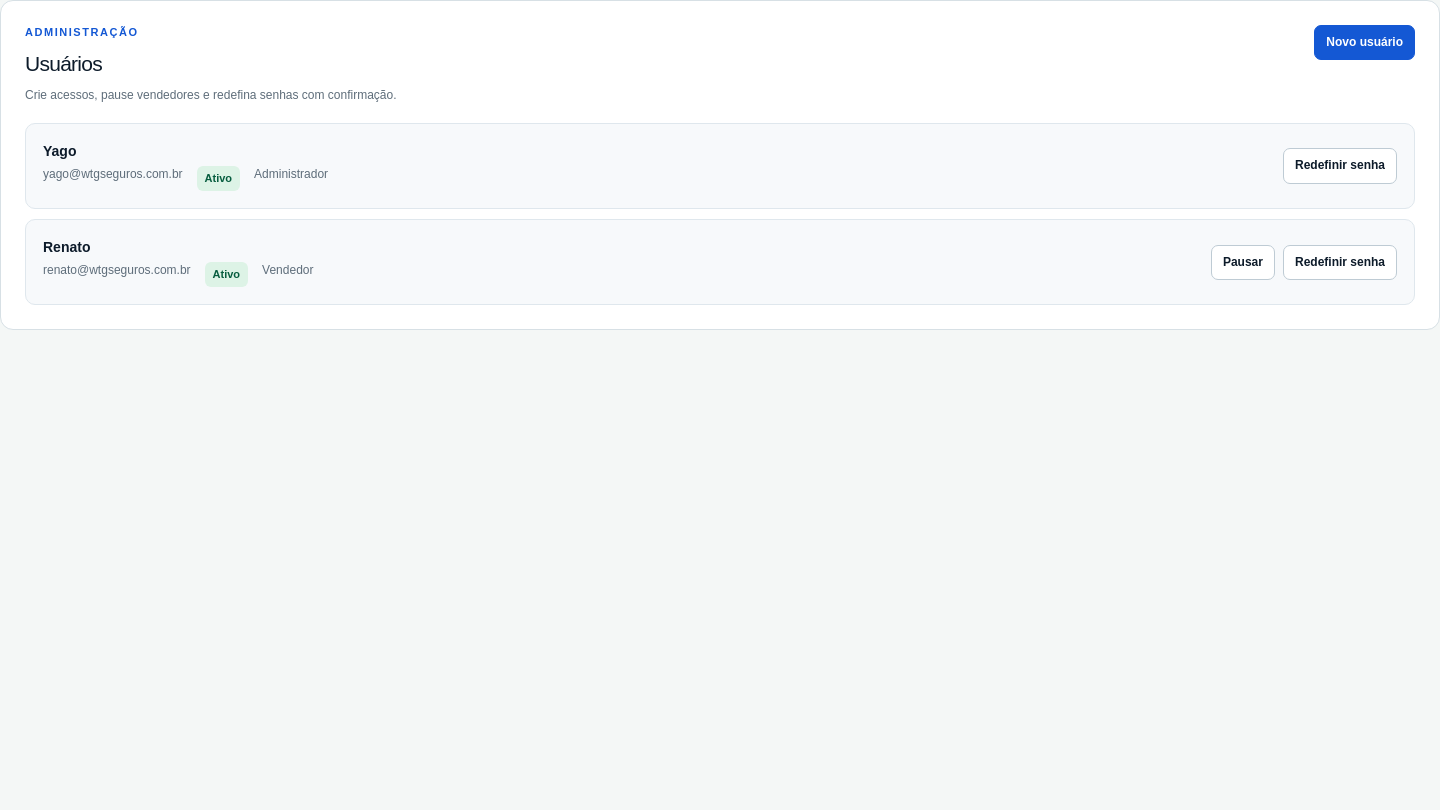
gestão operacional de usuários › exige senha nova e confirma a redefinição sem expor seu conteúdo
The width and height of the screenshot is (1440, 810).
Click the button with aria-label "Redefinir senha de Renato": (1340, 262) [1283,244,1397,280]
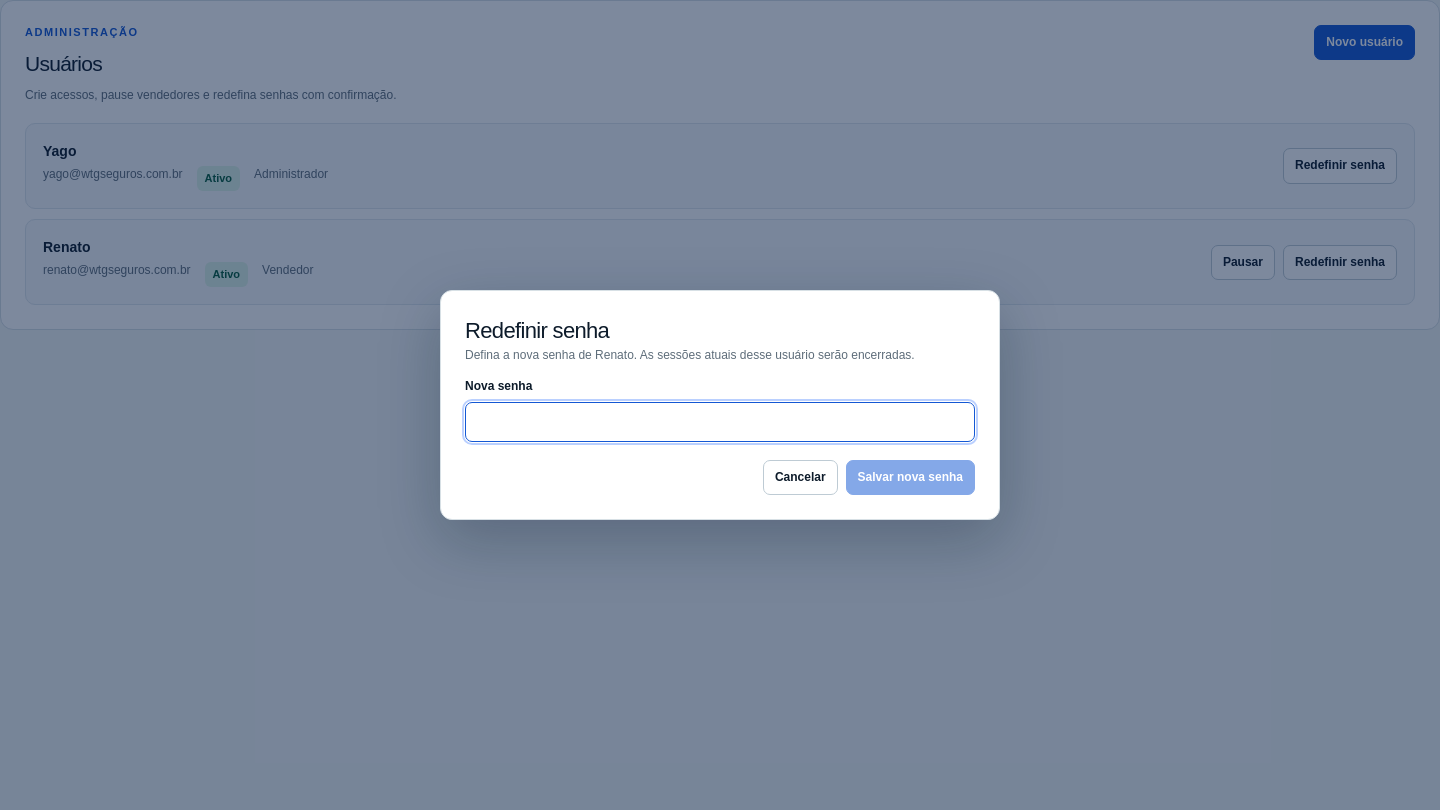
Result: the dialog "Redefinir senha" is shown at [440,290,1000,520]
Result: the button "Salvar nova senha" is disabled at [846,460,975,495]
In the password field labelled "Nova senha": (720, 422) [465,402,975,442], type "nova senha secreta"
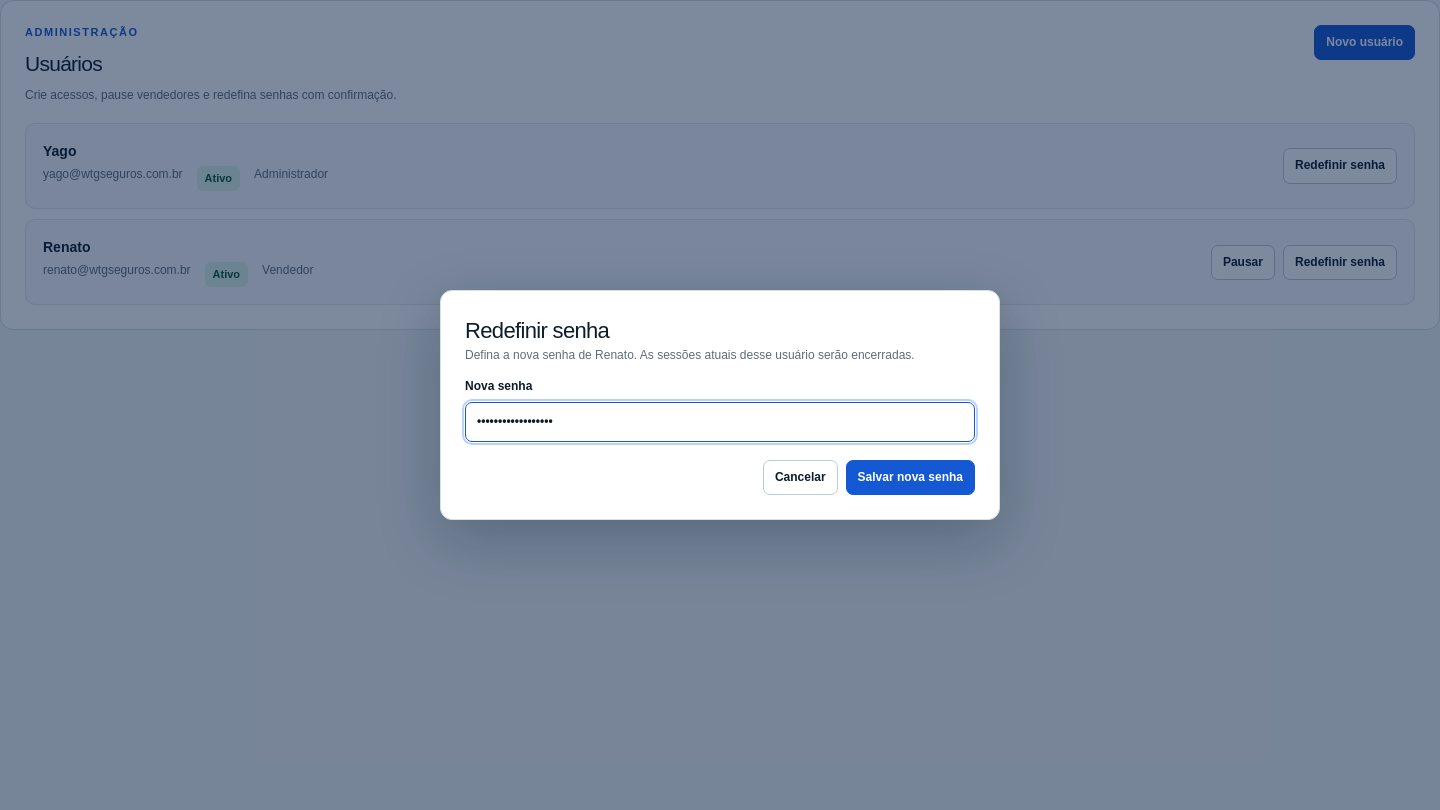
Click the button "Salvar nova senha": (910, 478) [846,460,975,495]
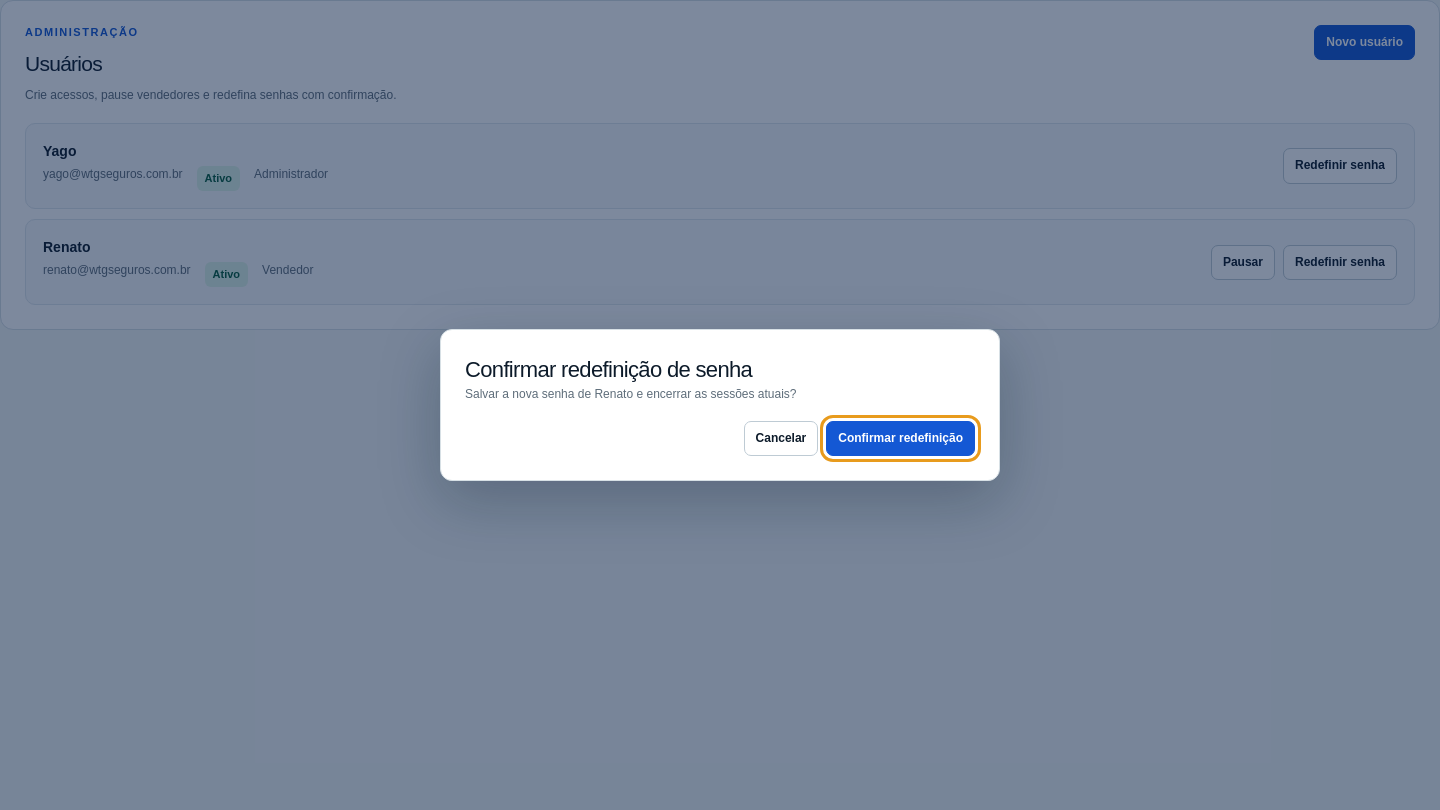
Result: the dialog "Confirmar redefinição de senha" is shown at [440,329,1000,481]
Click the button "Confirmar redefinição": (901, 439) [826,421,975,456]
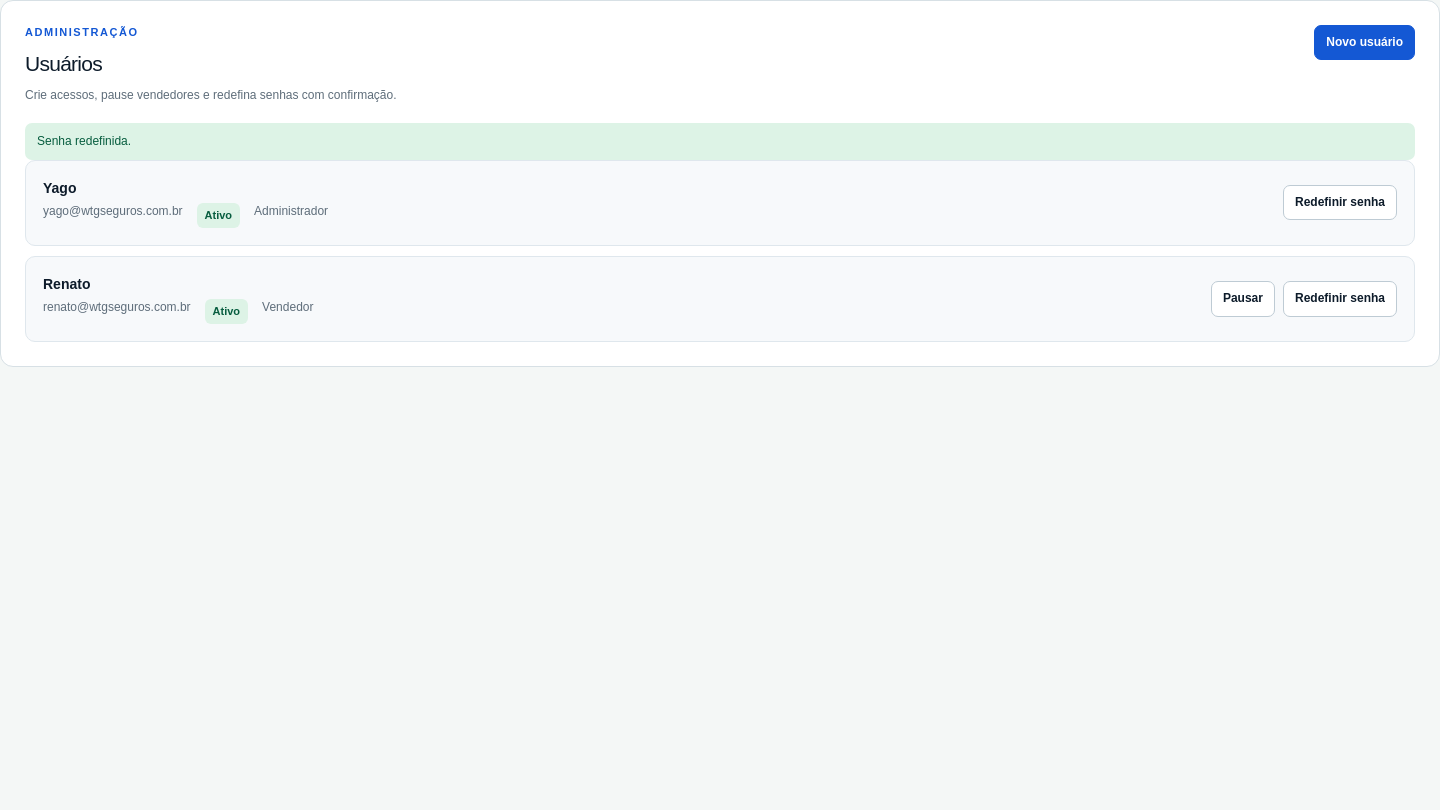
Result: the message reads "Senha redefinida." at [37,134,131,148]
